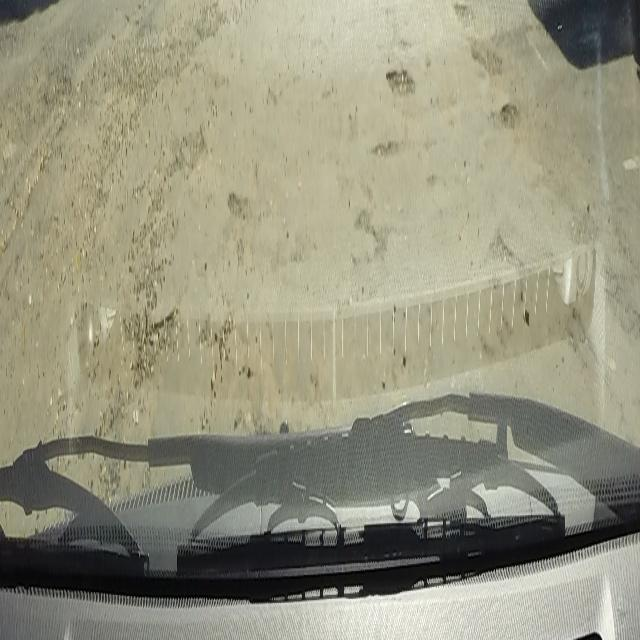pothole: (124, 305, 176, 393), (384, 66, 416, 101), (501, 101, 521, 130)
